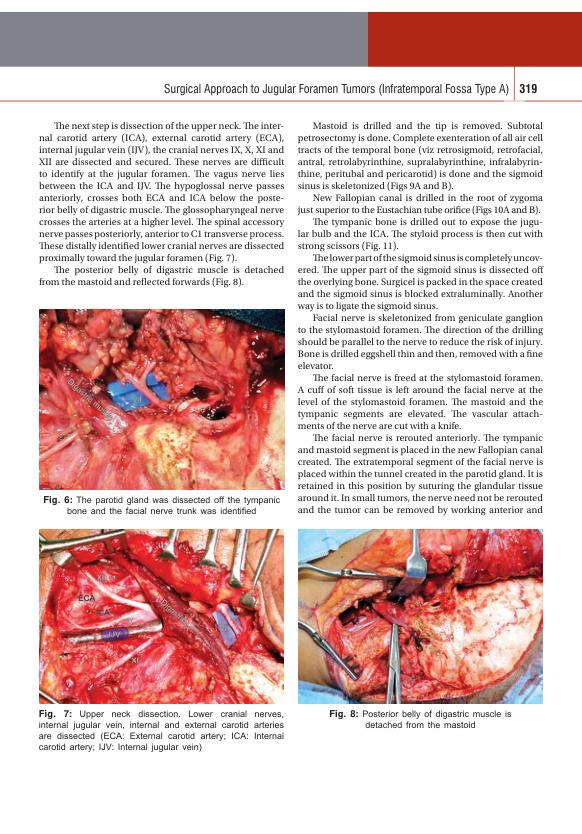caption: (37, 708, 286, 754), (42, 494, 282, 516), (328, 708, 513, 729)
header: (163, 82, 511, 96)
image: (38, 308, 286, 491), (38, 528, 285, 705), (297, 528, 544, 705)
text: (295, 120, 544, 517), (38, 120, 285, 289)
